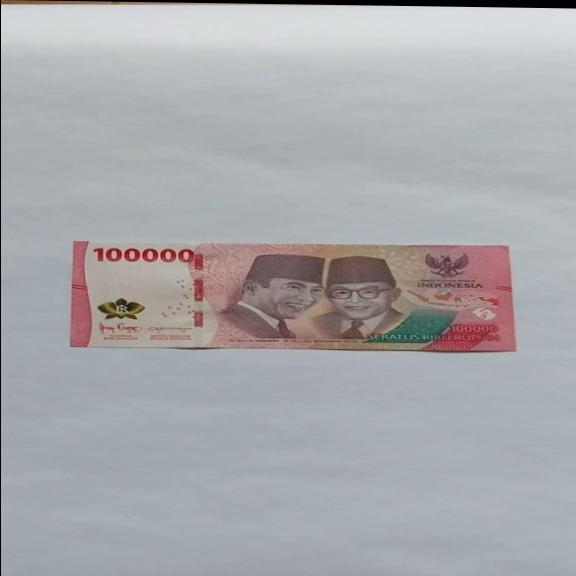Kertas: (70, 239, 516, 355)
